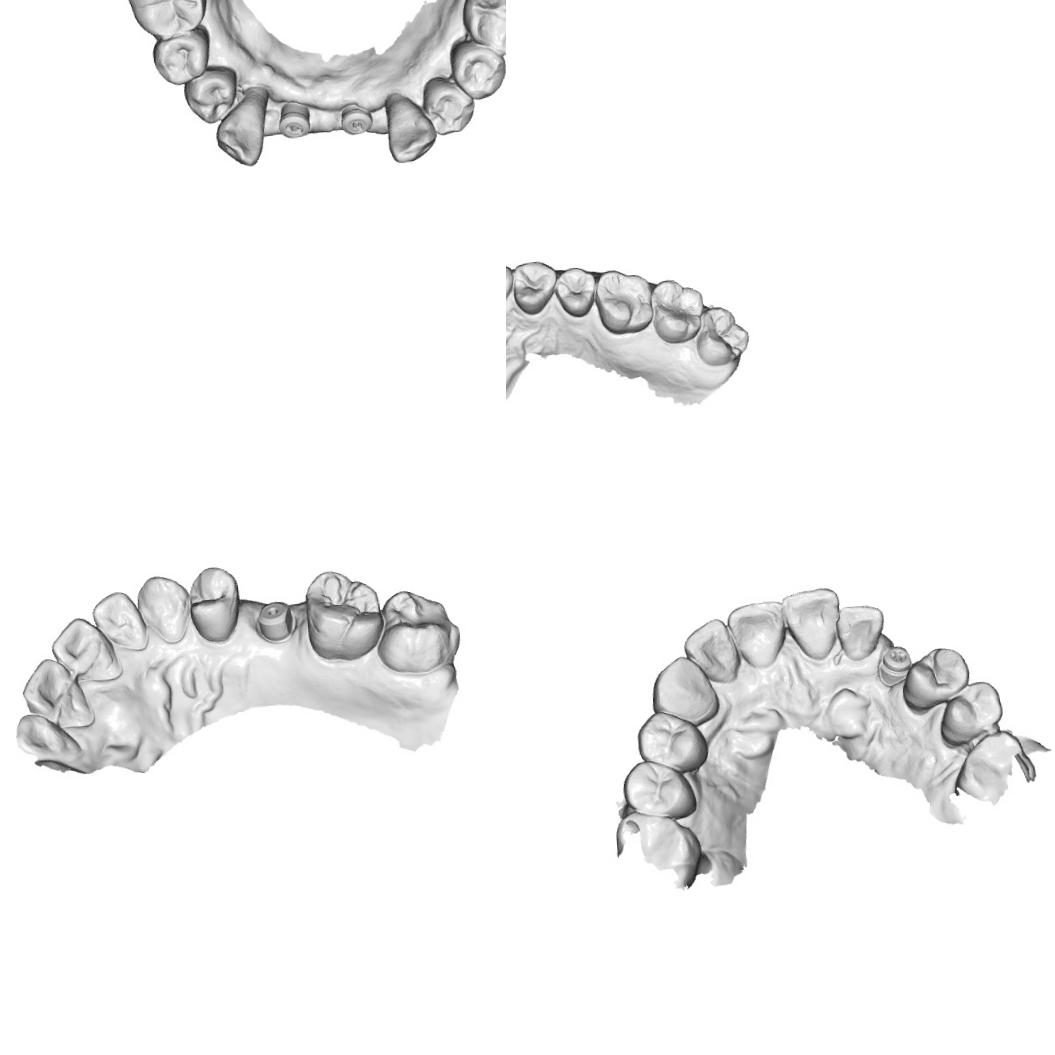canine: (647, 651, 722, 729), (212, 88, 270, 168), (132, 571, 191, 647), (382, 88, 436, 165)
implant: (251, 597, 298, 644)
implant_minus: (274, 98, 315, 141), (336, 102, 374, 136)
implant_plus: (872, 640, 916, 686)
incisor: (15, 654, 96, 735), (46, 612, 122, 687), (779, 584, 846, 664), (724, 598, 790, 672), (679, 614, 742, 686), (88, 588, 147, 656), (832, 600, 888, 664)
molar: (298, 563, 388, 664), (372, 584, 462, 678), (591, 266, 654, 337), (648, 276, 706, 346), (691, 303, 750, 367), (121, 0, 212, 41), (457, 0, 506, 58)
premolar: (632, 703, 710, 777), (618, 755, 698, 823), (933, 676, 1005, 748), (898, 642, 971, 713), (185, 562, 243, 646), (148, 25, 212, 89), (180, 62, 242, 126), (447, 36, 506, 102), (418, 73, 478, 137), (510, 258, 558, 316), (550, 264, 597, 319)
